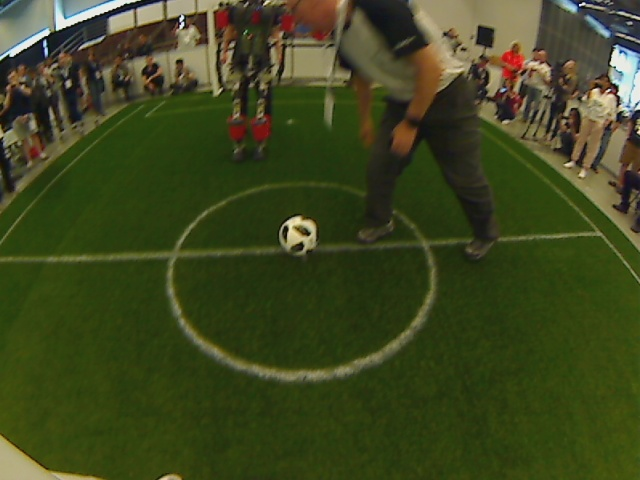ball: (275, 212, 322, 260)
